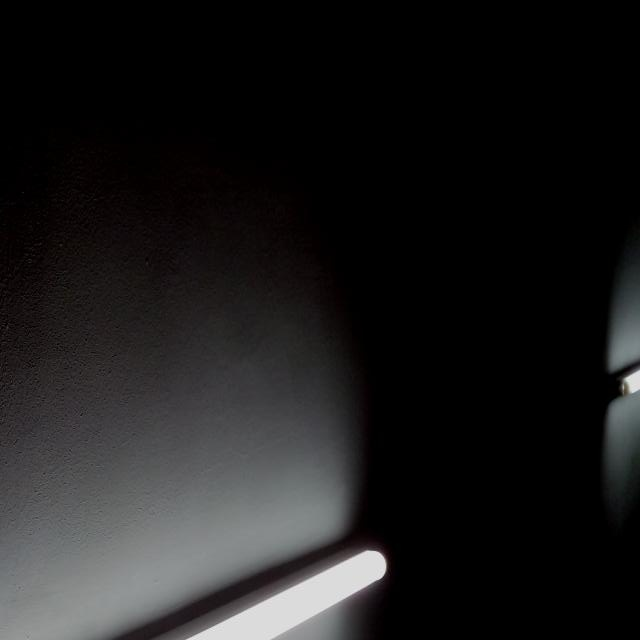fluorescent tube: (0, 525, 423, 640), (598, 316, 640, 490)
